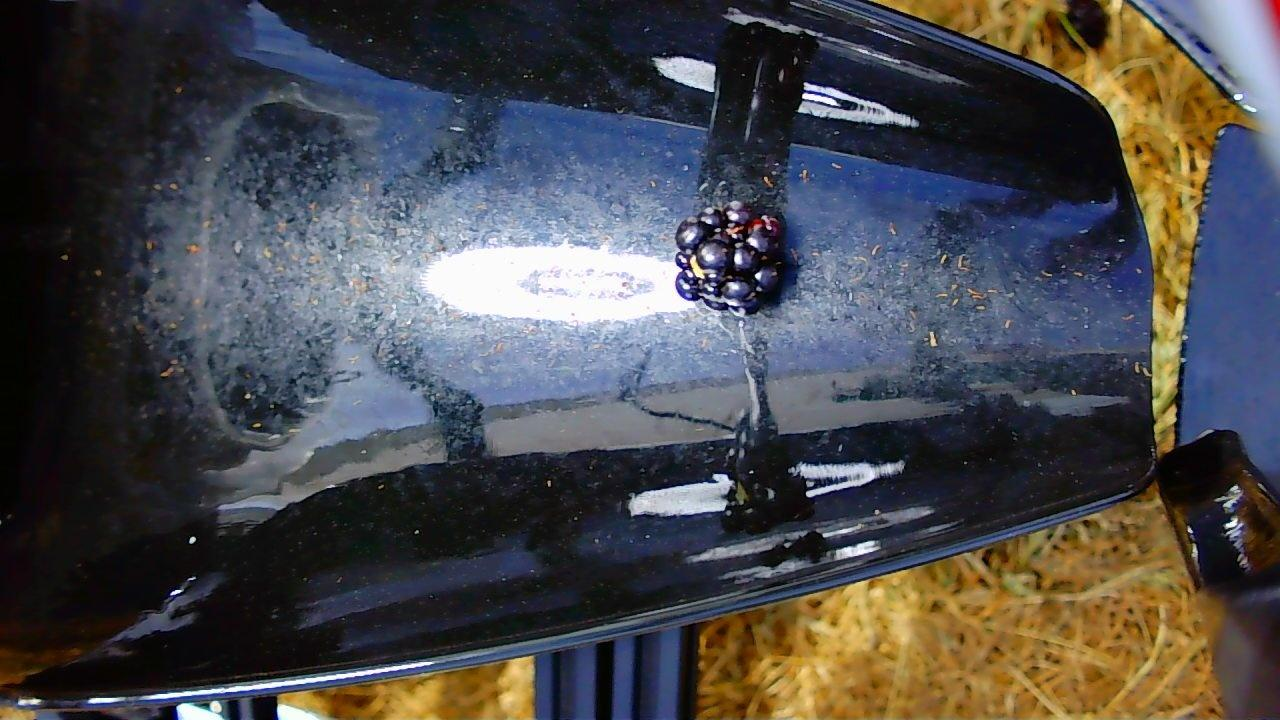berry: (676, 201, 783, 313)
